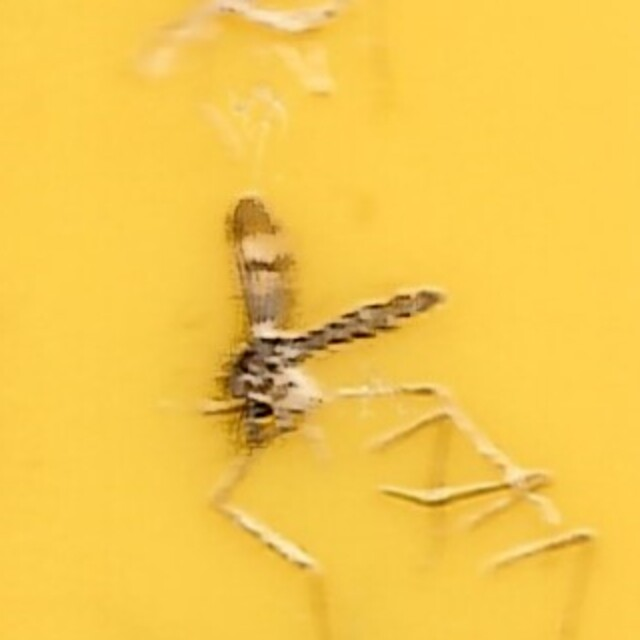Nematocera: (200, 196, 440, 444)
